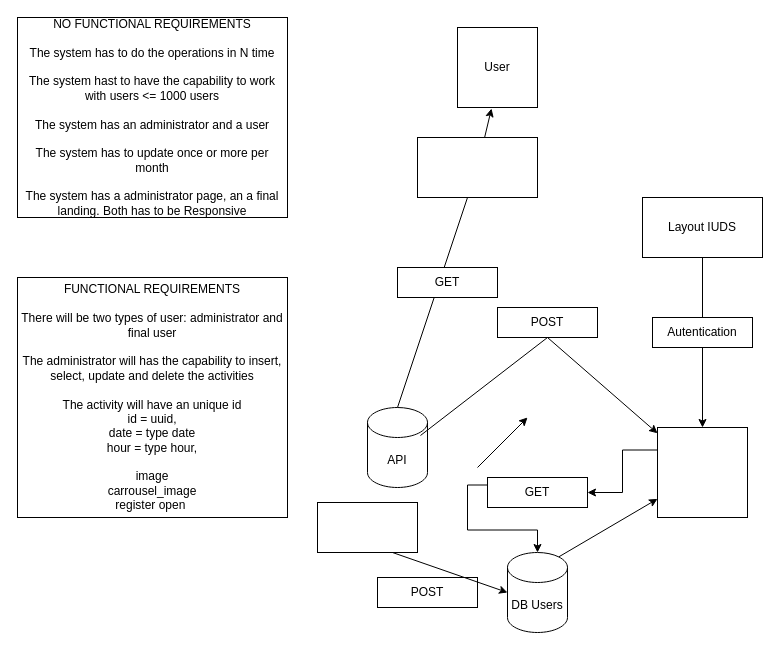
Image size: 780x650. Some labels were removed from this diagram. Here are the shapes that lost their labels. From the top down, the box of each, then its label:
(416, 136, 538, 198): Final layour
(656, 426, 748, 518): Admon
(316, 502, 418, 552): Master
